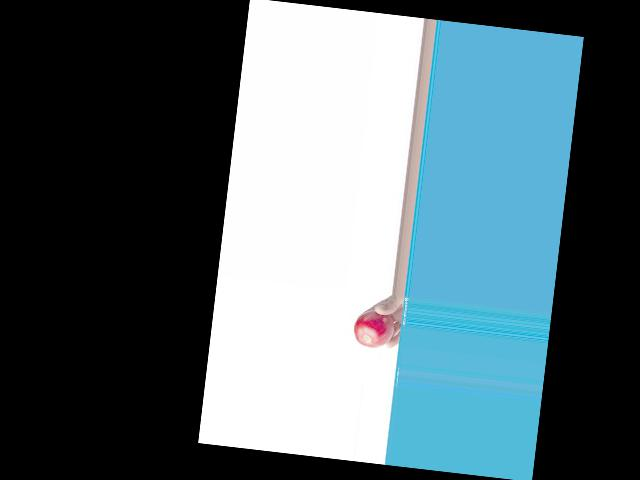tomato: (352, 308, 396, 350)
